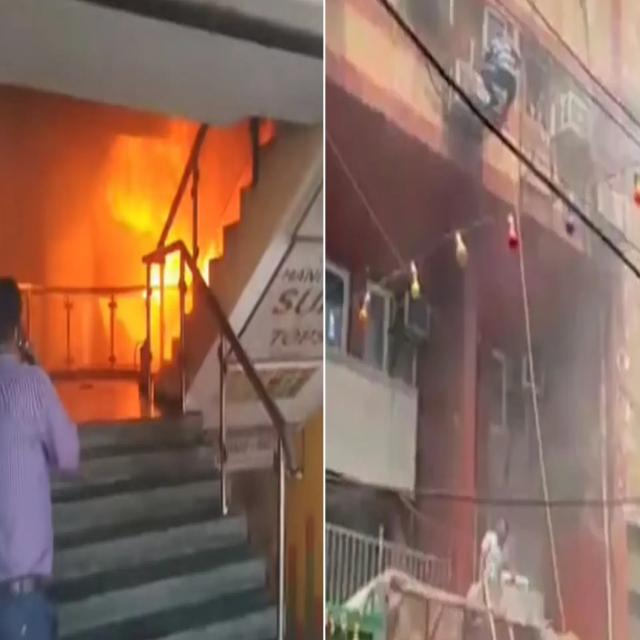fire: (142, 238, 218, 305)
